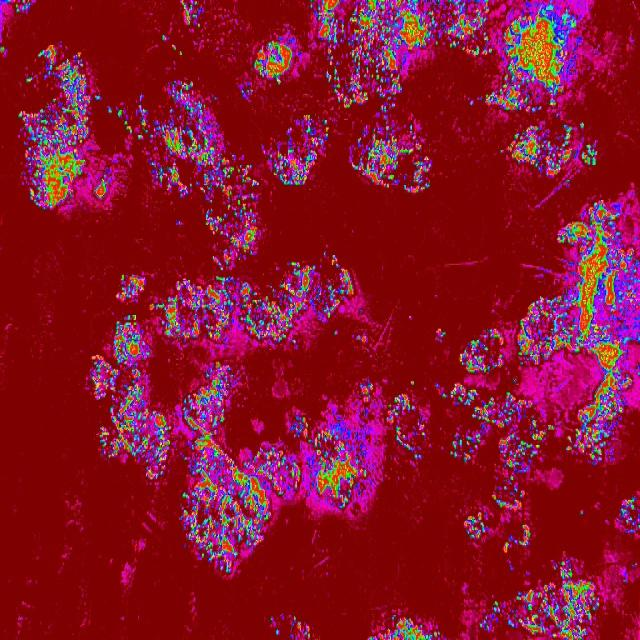fire: (182, 448, 302, 578), (553, 203, 640, 354), (19, 46, 90, 210), (310, 0, 492, 56), (148, 81, 227, 199), (165, 273, 294, 343), (504, 2, 580, 112), (99, 313, 152, 462), (350, 116, 433, 193), (506, 582, 604, 640), (309, 426, 372, 510), (266, 116, 330, 186), (327, 56, 408, 110), (498, 390, 546, 480), (502, 119, 574, 173), (203, 200, 258, 269), (565, 402, 626, 462), (182, 363, 236, 422), (515, 294, 553, 368), (324, 250, 356, 320), (588, 356, 634, 403), (460, 328, 504, 377), (446, 383, 498, 422), (370, 615, 446, 640), (291, 256, 323, 312), (254, 41, 294, 85), (493, 478, 526, 512), (226, 164, 259, 198), (186, 422, 222, 448), (619, 493, 640, 536), (394, 426, 420, 460), (450, 434, 479, 464), (115, 275, 144, 305), (154, 410, 170, 460), (388, 391, 417, 418), (179, 0, 202, 30), (464, 512, 487, 542), (92, 166, 111, 202), (85, 352, 98, 401), (287, 614, 311, 640), (136, 92, 146, 146), (290, 414, 308, 440), (356, 379, 375, 401), (556, 557, 575, 579), (582, 143, 598, 167), (518, 523, 532, 547), (486, 88, 504, 106), (9, 0, 32, 14), (145, 462, 164, 478), (238, 86, 254, 100), (502, 541, 512, 555), (124, 118, 132, 134), (92, 89, 101, 103), (478, 616, 487, 630), (150, 300, 162, 310), (356, 333, 368, 343), (116, 106, 123, 122), (493, 598, 501, 612), (437, 331, 448, 341), (172, 45, 182, 54), (577, 508, 586, 518), (160, 31, 168, 41), (564, 176, 572, 186), (230, 150, 238, 160), (160, 318, 167, 328), (0, 45, 6, 56), (269, 614, 275, 624), (106, 106, 113, 114), (468, 98, 473, 108), (422, 429, 427, 437), (411, 378, 415, 388), (442, 392, 448, 398), (331, 330, 337, 336), (274, 626, 278, 635), (580, 123, 586, 128)
